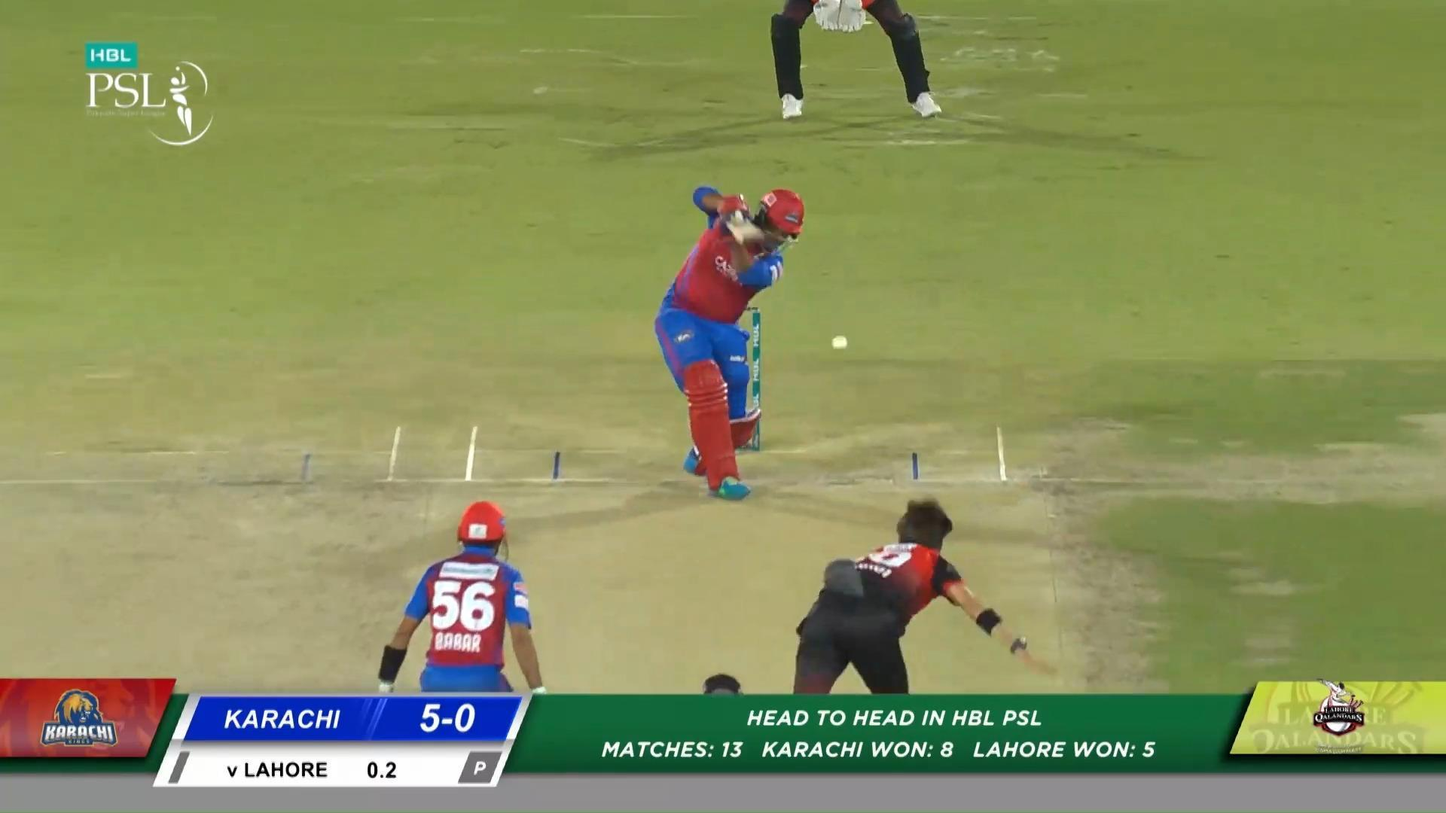BM 1: (654, 187, 805, 499)
BO: (792, 497, 1057, 694)
